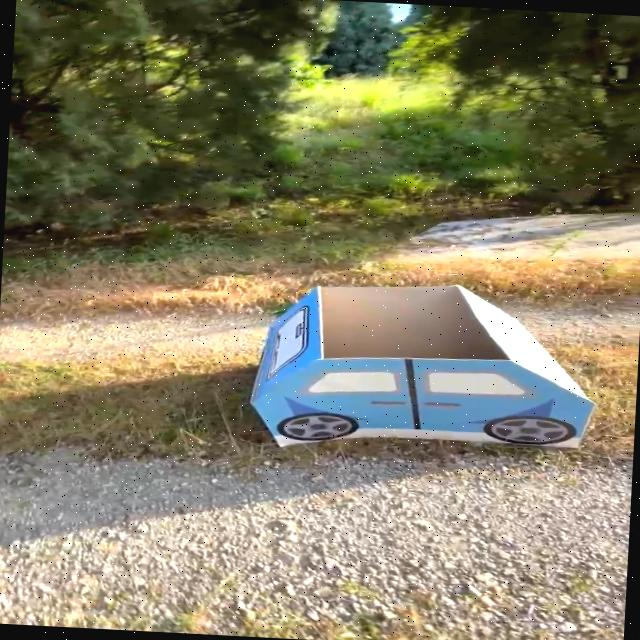blue_car: (184, 255, 614, 496)
